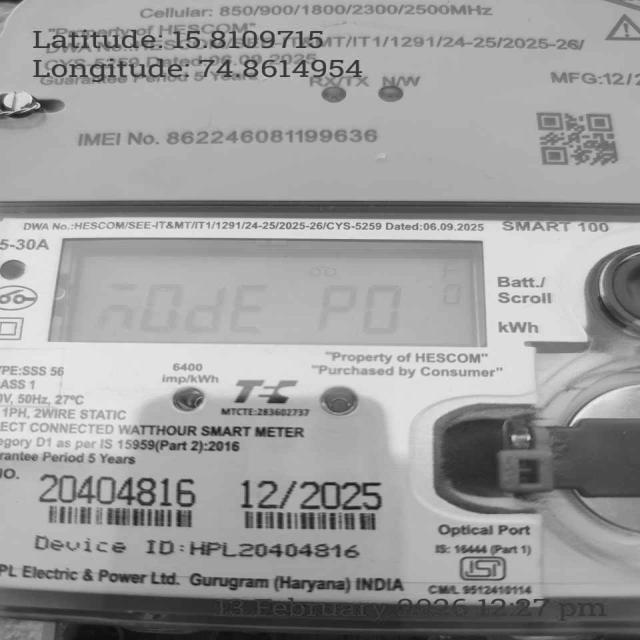meter: (0, 3, 640, 607)
